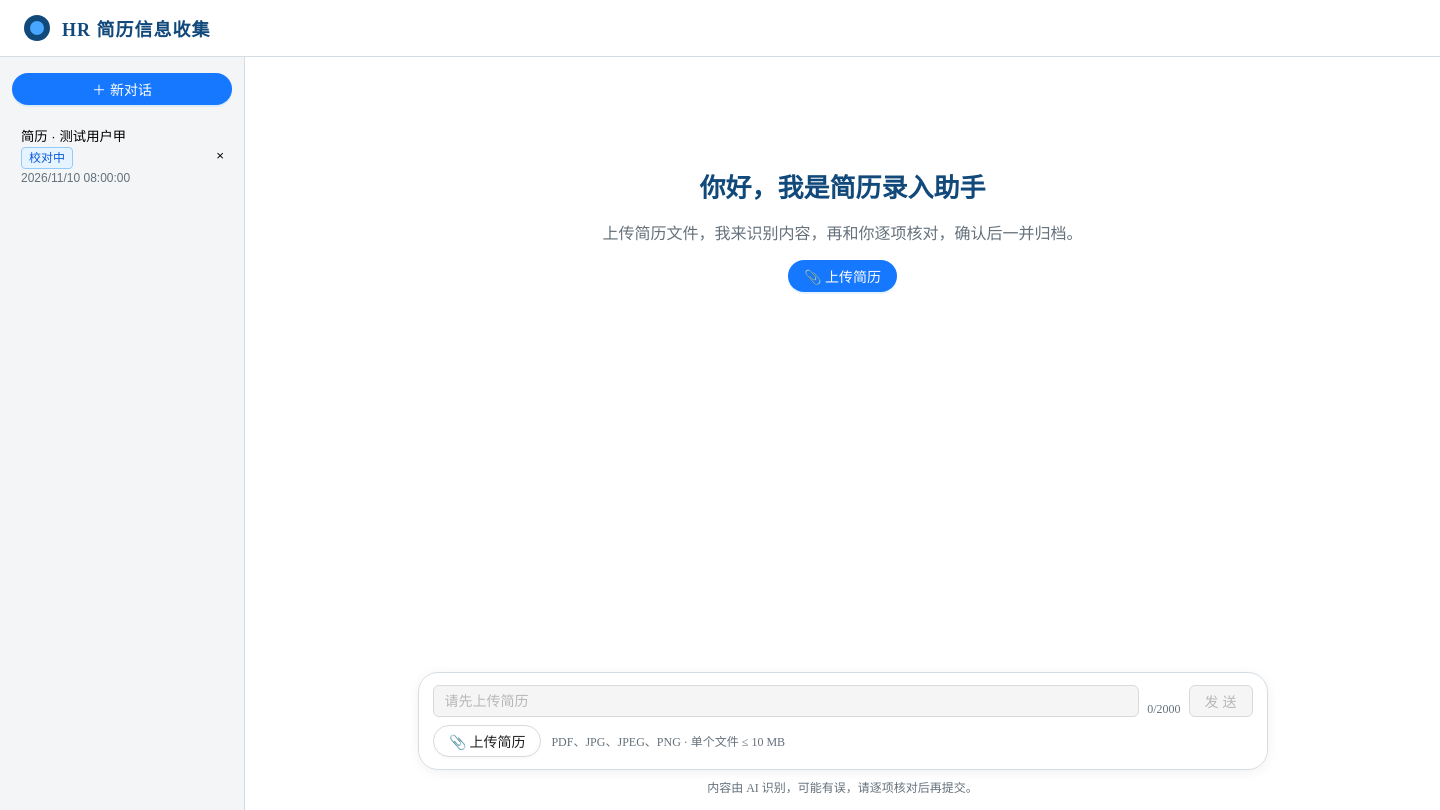
Scenario: final review (REQ-FE-04.1, 04.2) › 422 returns to the section of the field with the reason shown
Click the button "简历 · 测试用户甲 校对中 2026/11/10 08:00:00" at (108, 156), box [12, 117, 204, 194]
(page scrolled)
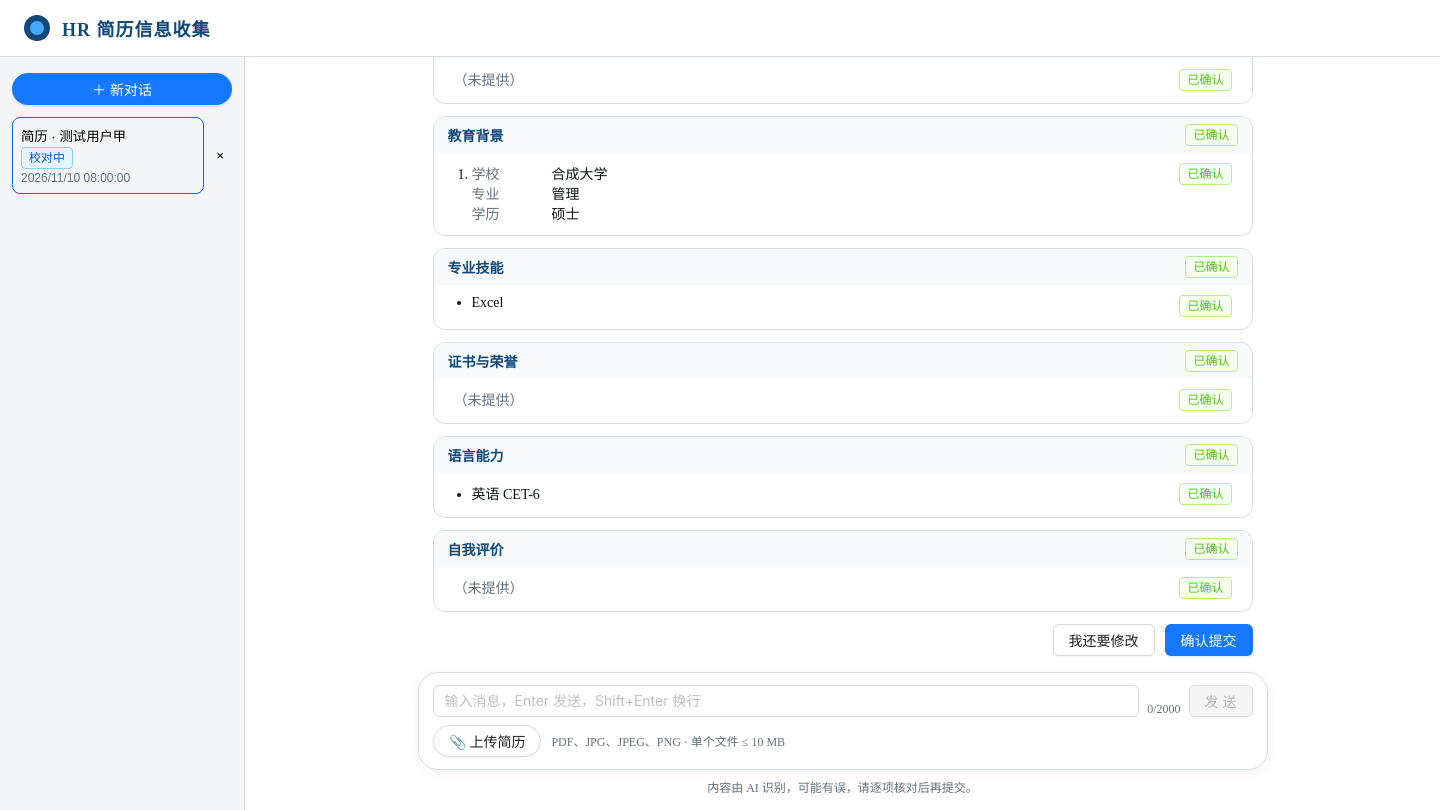
Click the button "确认提交" at (1208, 640), box [1164, 624, 1252, 656]
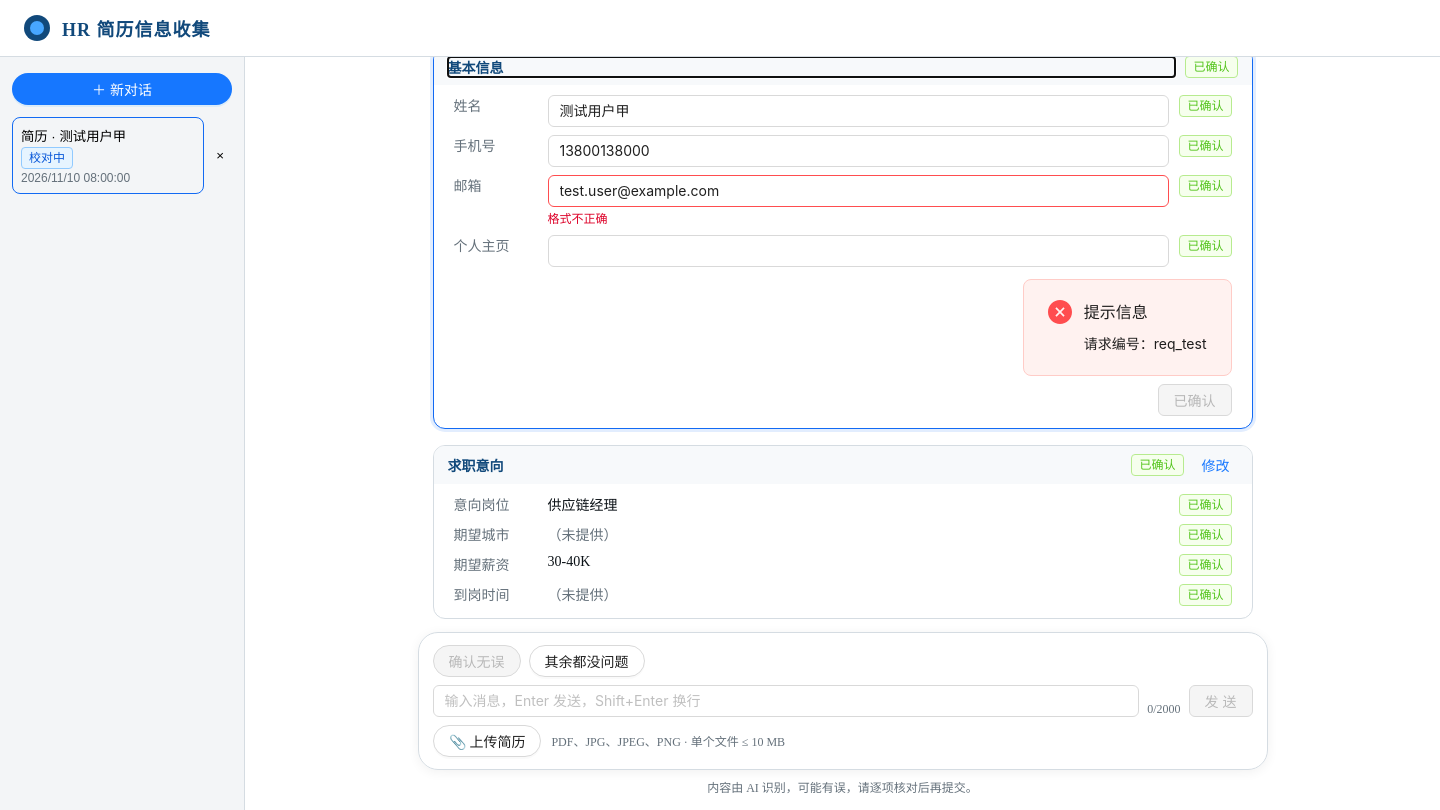
Check: the text "格式不正确" is shown, box [548, 212, 608, 226]
